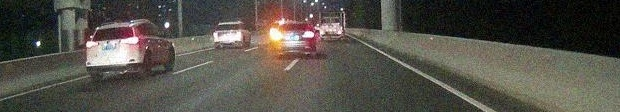L_light: (85, 40, 98, 48), (274, 33, 283, 39), (213, 32, 220, 36)
R_light: (121, 36, 140, 45), (302, 31, 313, 38), (235, 32, 242, 35)
T_light: (107, 27, 117, 30), (291, 23, 299, 25), (226, 24, 231, 25)
night-left: (273, 21, 316, 58)
night-no: (85, 21, 141, 79), (213, 22, 243, 49)
